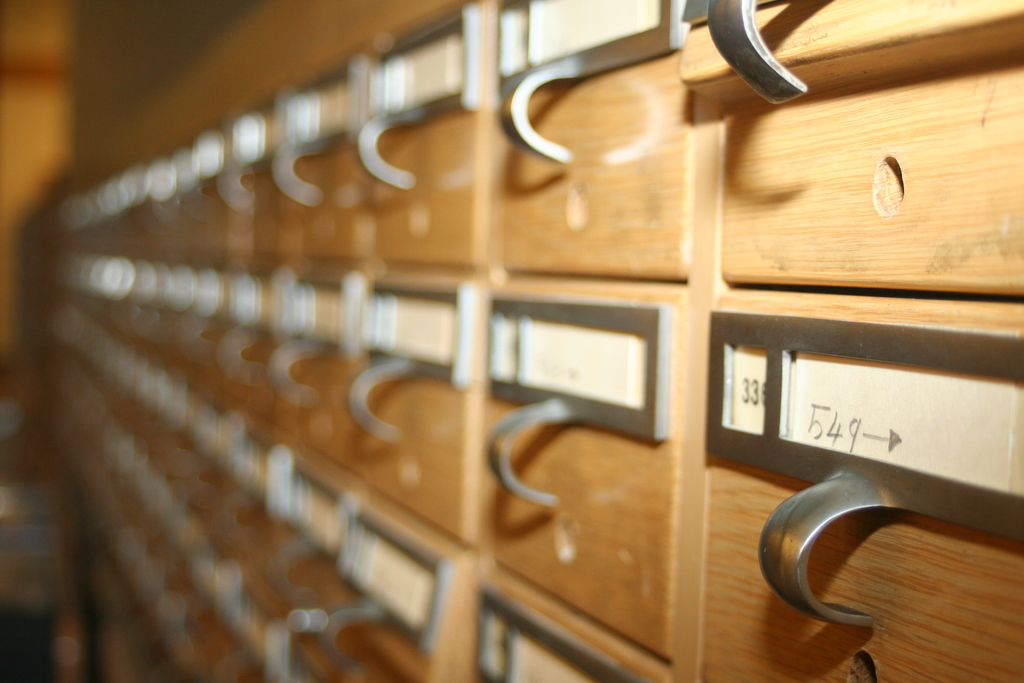cabinet door: (719, 306, 1024, 678), (716, 28, 1024, 301), (495, 317, 683, 592), (498, 33, 686, 268), (362, 302, 478, 502), (365, 75, 484, 269), (286, 92, 370, 254)
handle: (751, 471, 898, 630), (718, 7, 836, 123), (488, 397, 572, 517), (502, 65, 577, 168), (350, 355, 418, 453), (355, 118, 420, 204), (267, 137, 321, 211)
